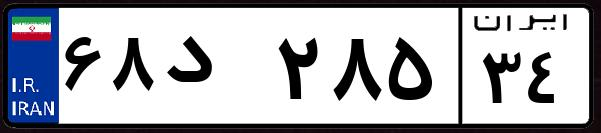2: (270, 28, 330, 110)
3: (475, 38, 525, 113)
4: (525, 38, 570, 115)
5: (385, 28, 445, 110)
6: (57, 26, 110, 100)
8: (330, 28, 385, 110), (110, 28, 158, 98)
د: (158, 20, 270, 120)
